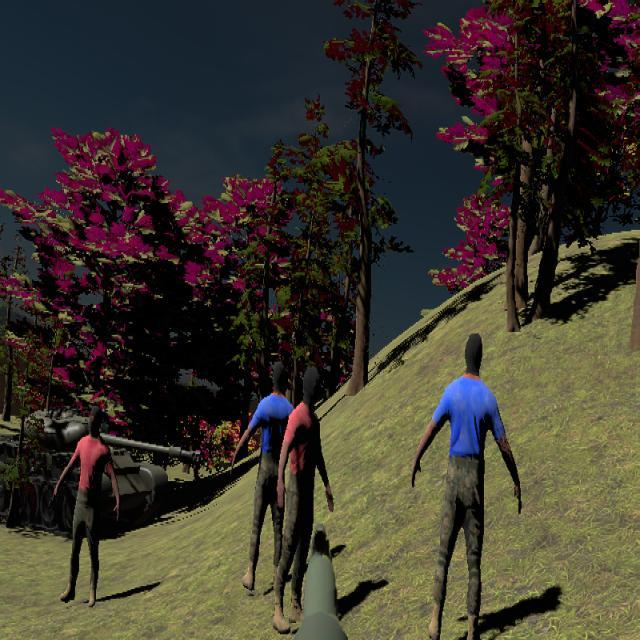Human: (410, 331, 522, 640), (230, 360, 314, 595), (276, 362, 335, 627), (53, 402, 122, 609)
Tank: (1, 400, 200, 541)
